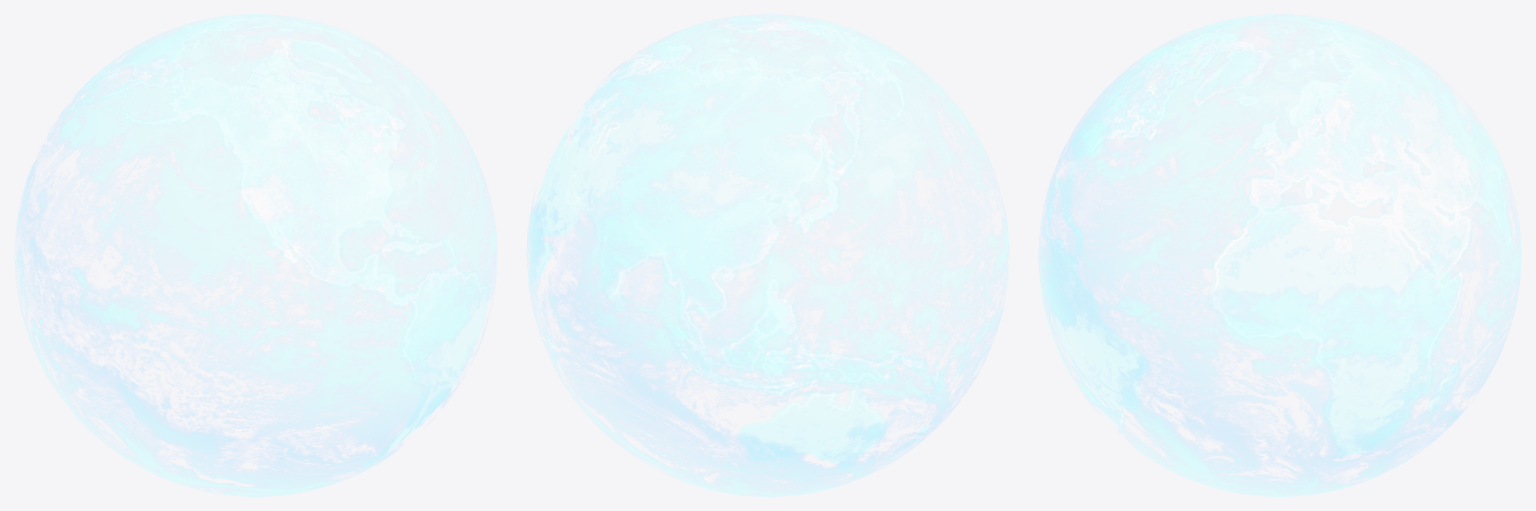
The model's file is hologram_gezegen.glb.
3 views of the same model, side by side, from view 1: azimuth 30°, elevation 25°; view 2: azimuth 150°, elevation 25°; view 3: azimuth 270°, elevation 25° (orthographic).
Visible parts, largest first — view 1: Planet_0; view 2: Planet_0; view 3: Planet_0.
Boxes of the visible parts, bbox=[...] form: Planet_0: bbox=[14, 14, 497, 496]; Planet_0: bbox=[526, 14, 1008, 496]; Planet_0: bbox=[1039, 14, 1521, 496].
Bounding box in the file's own units: 2.04 × 2.04 × 2.04.
2 materials, 2 textured.
